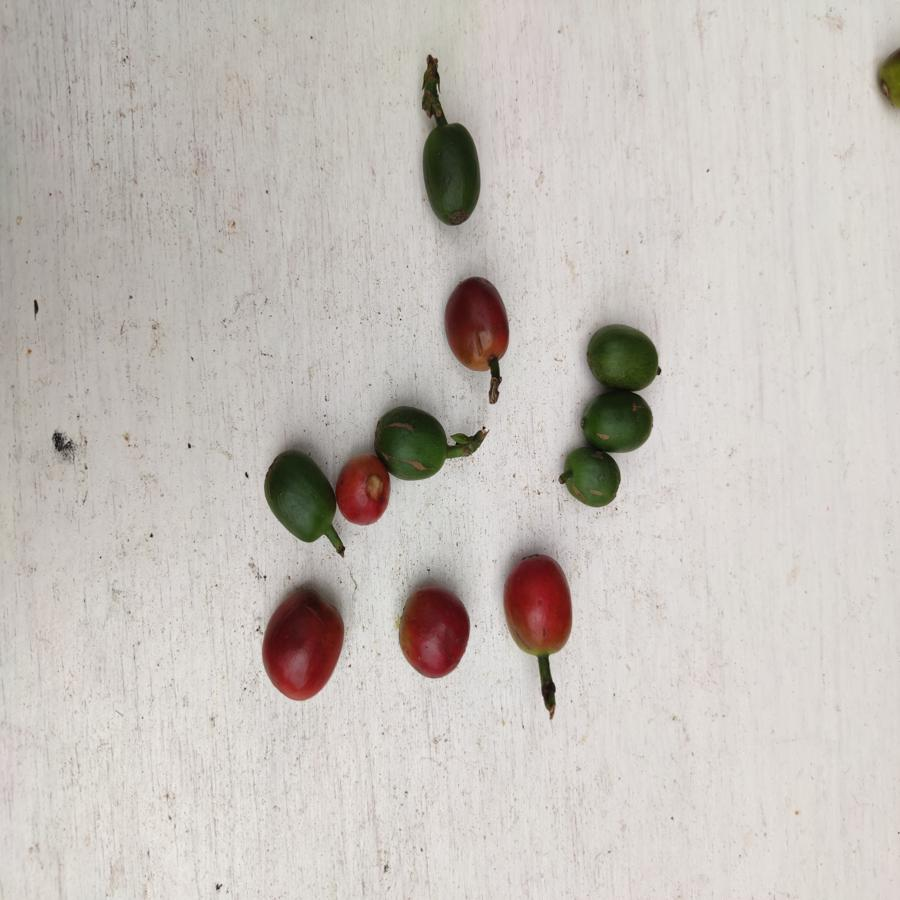Inmaduro: (418, 121, 487, 228), (264, 448, 338, 546), (375, 403, 453, 484), (583, 318, 666, 392), (577, 394, 658, 452), (561, 448, 625, 510)
Maduro: (254, 583, 347, 703), (502, 549, 573, 656), (440, 269, 511, 374), (399, 582, 472, 676), (336, 457, 393, 527)
